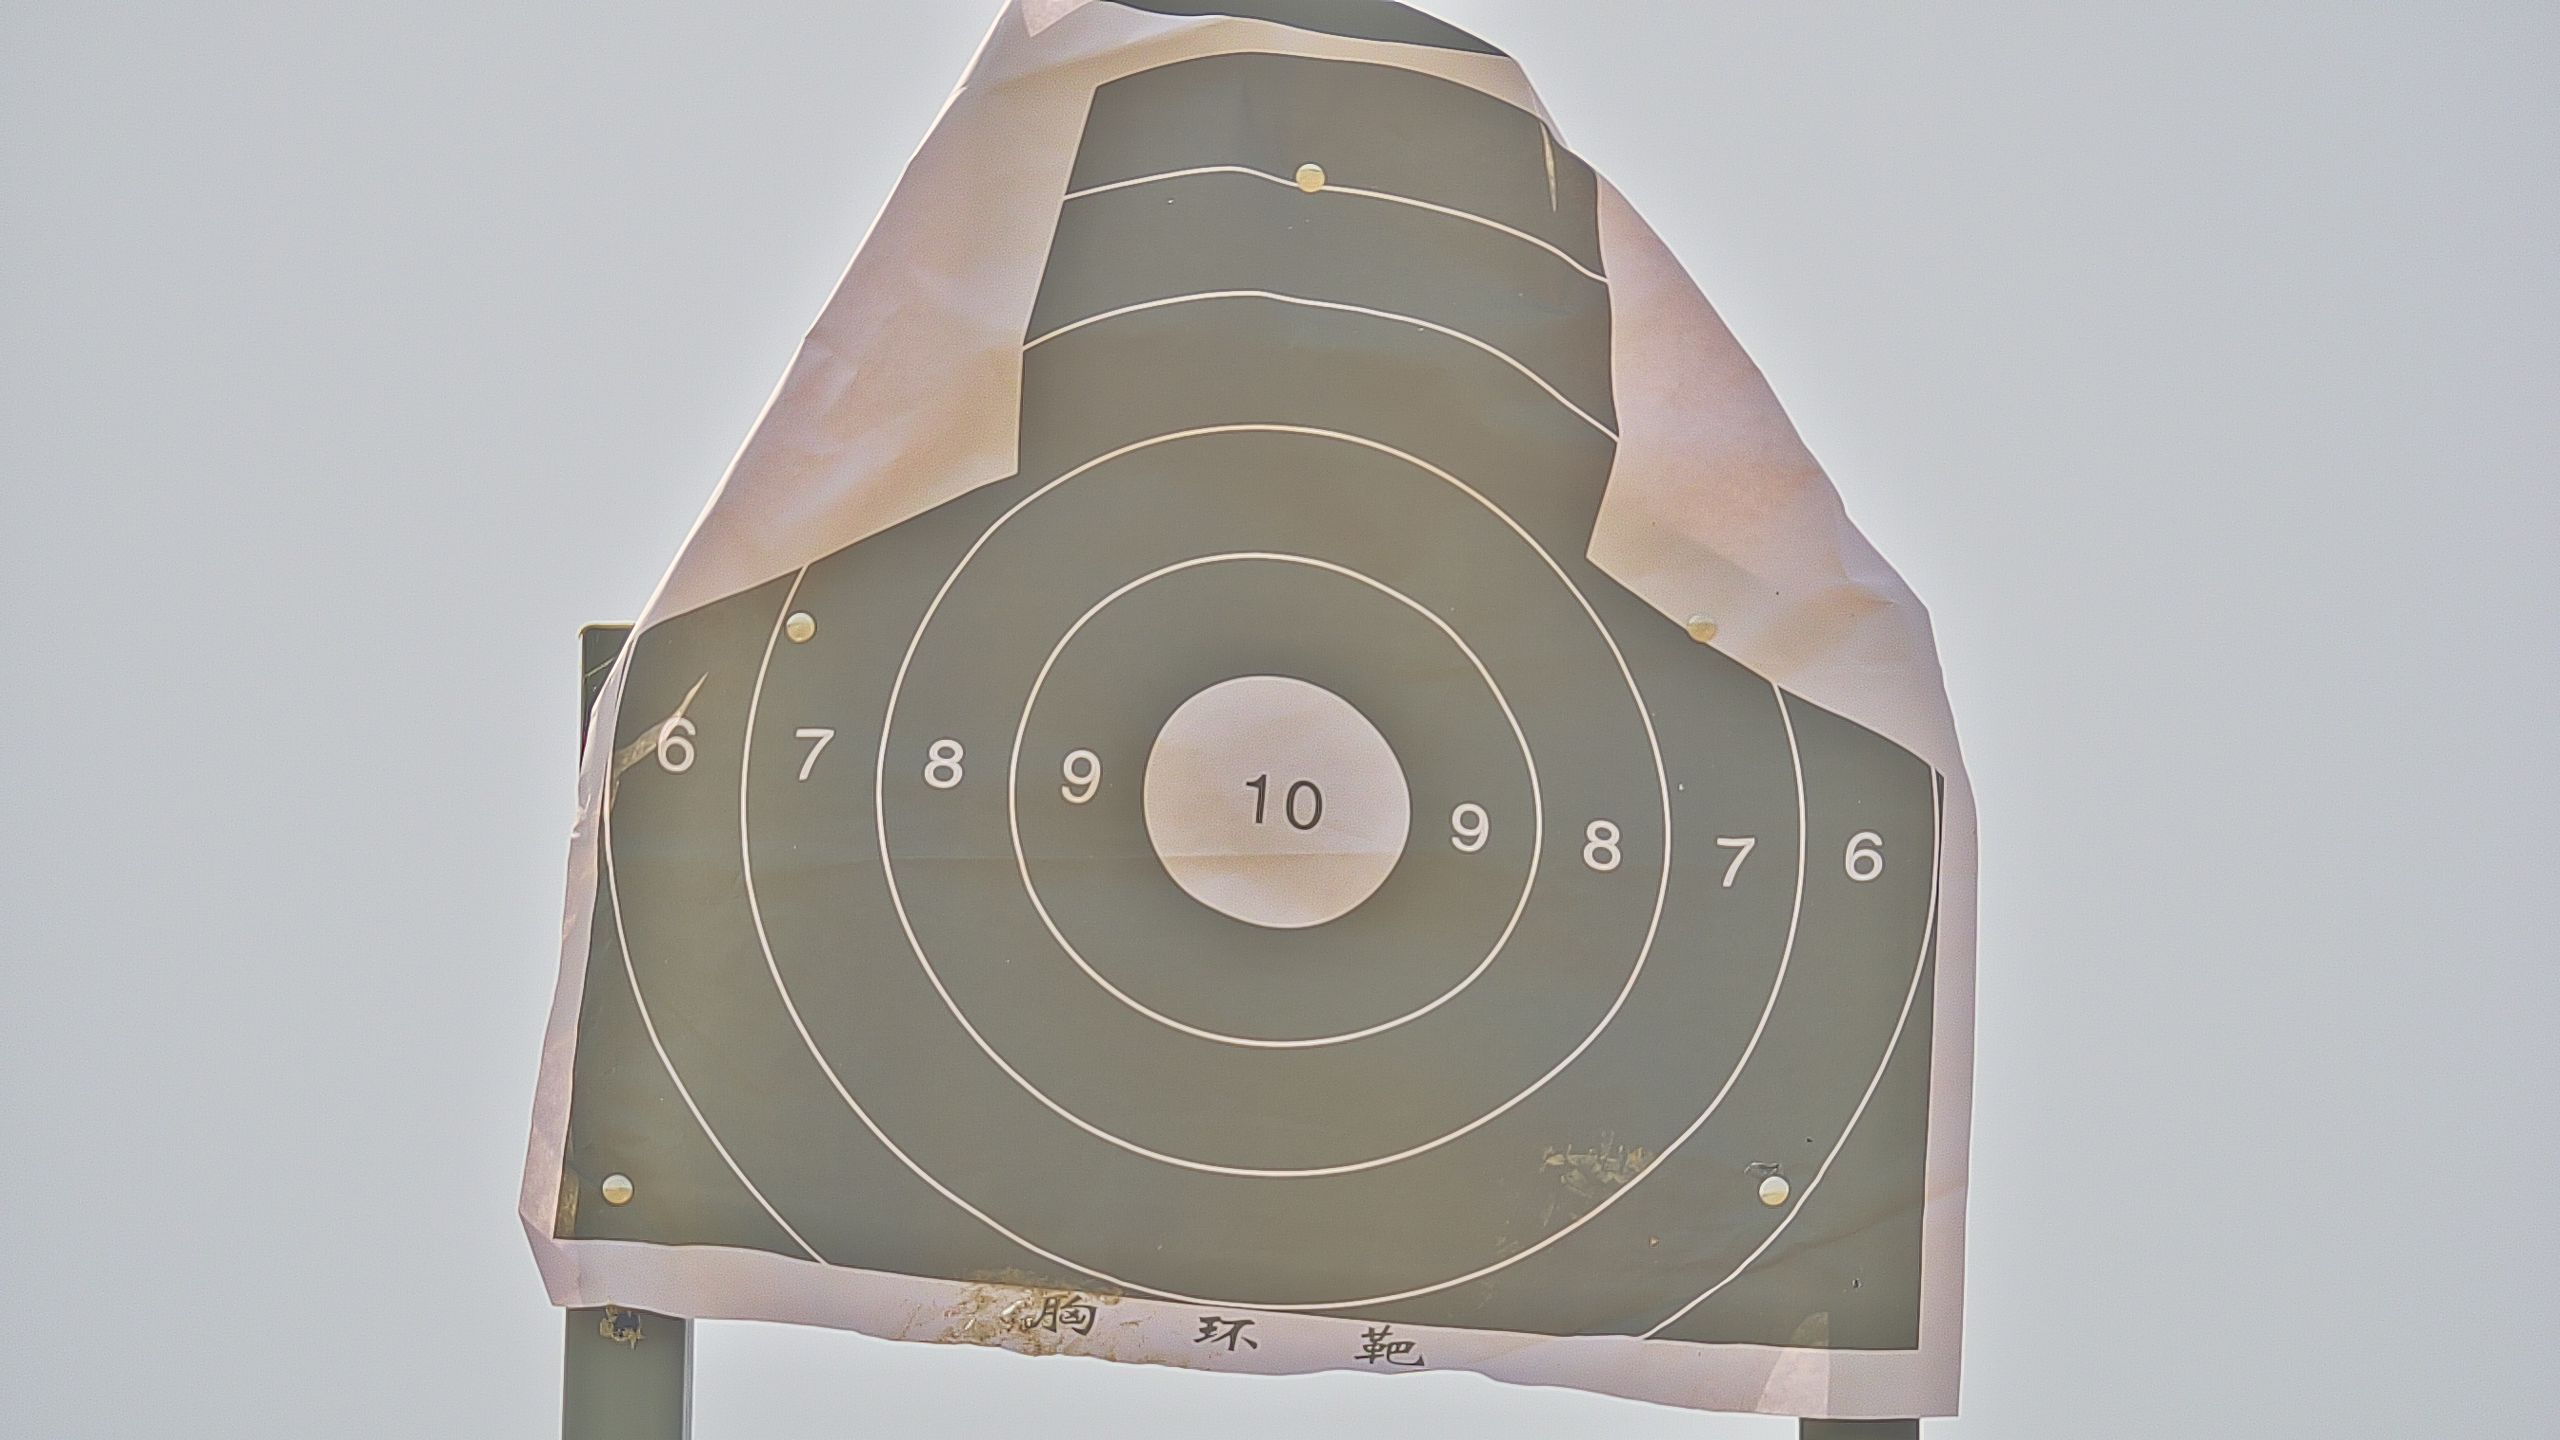target: (547, 55, 1948, 1371)
ten: (1139, 673, 1415, 932)
